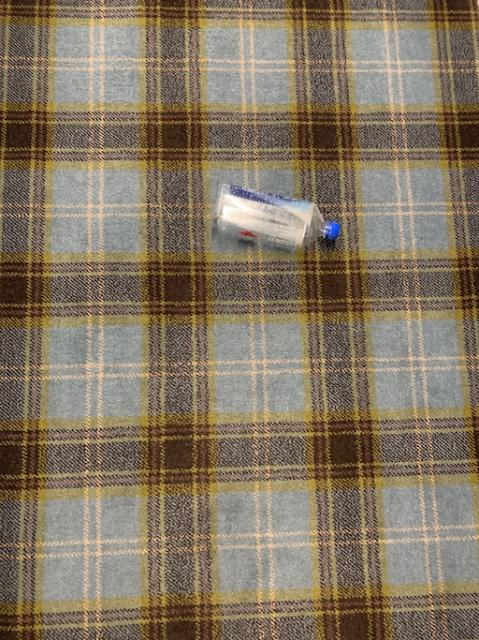plastic: (214, 183, 338, 246)
